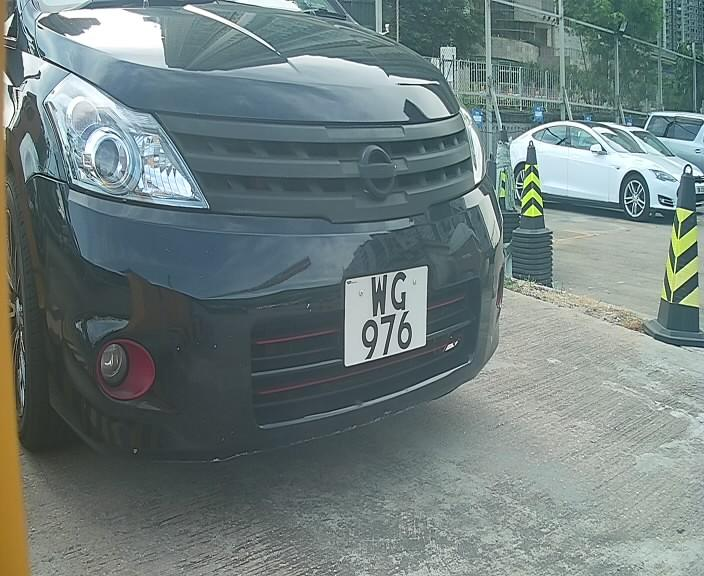License Plate: (334, 255, 437, 379)
